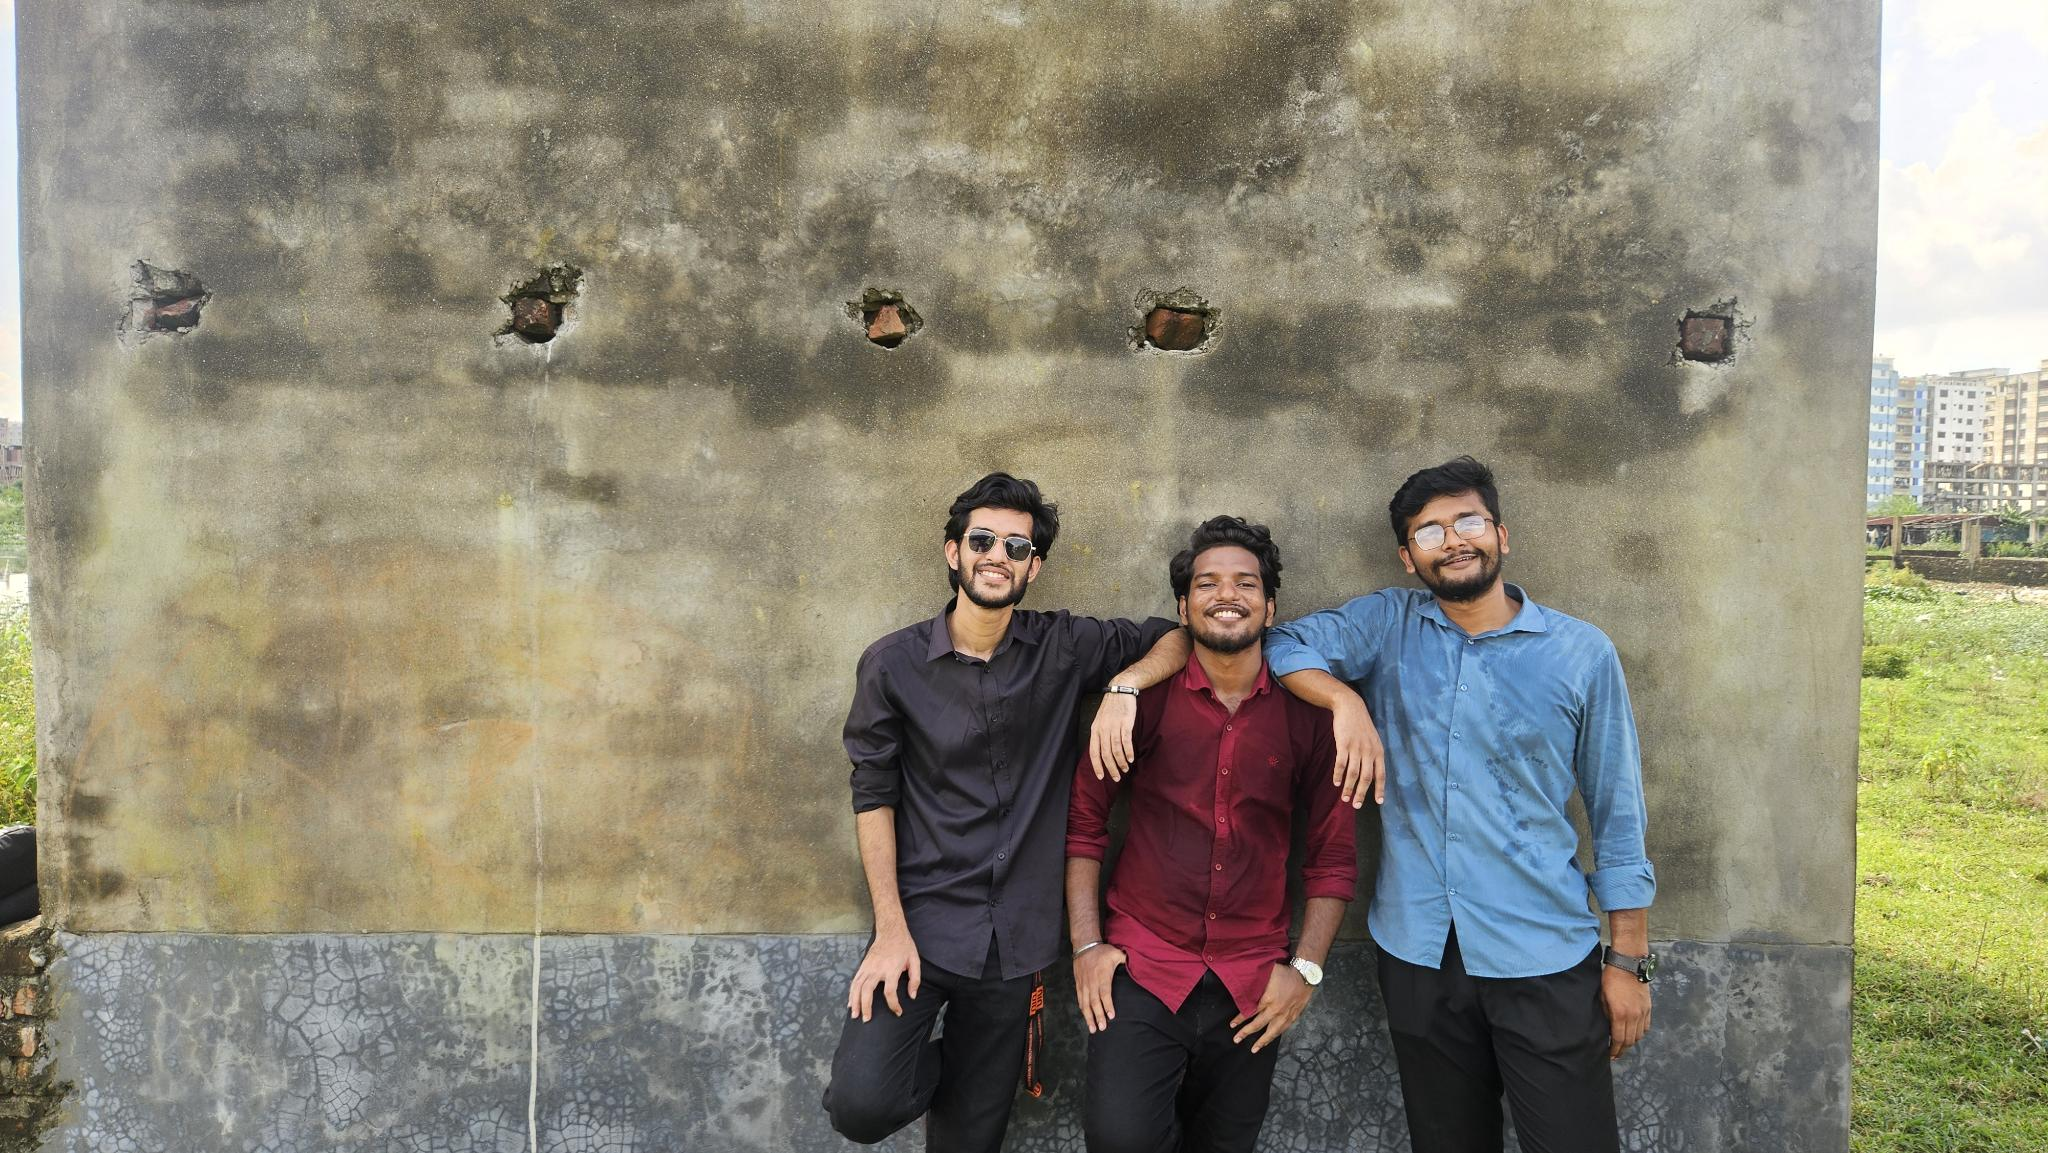nonSmoker: (1270, 456, 1657, 1153), (816, 471, 1187, 1153), (1070, 508, 1362, 1153)
